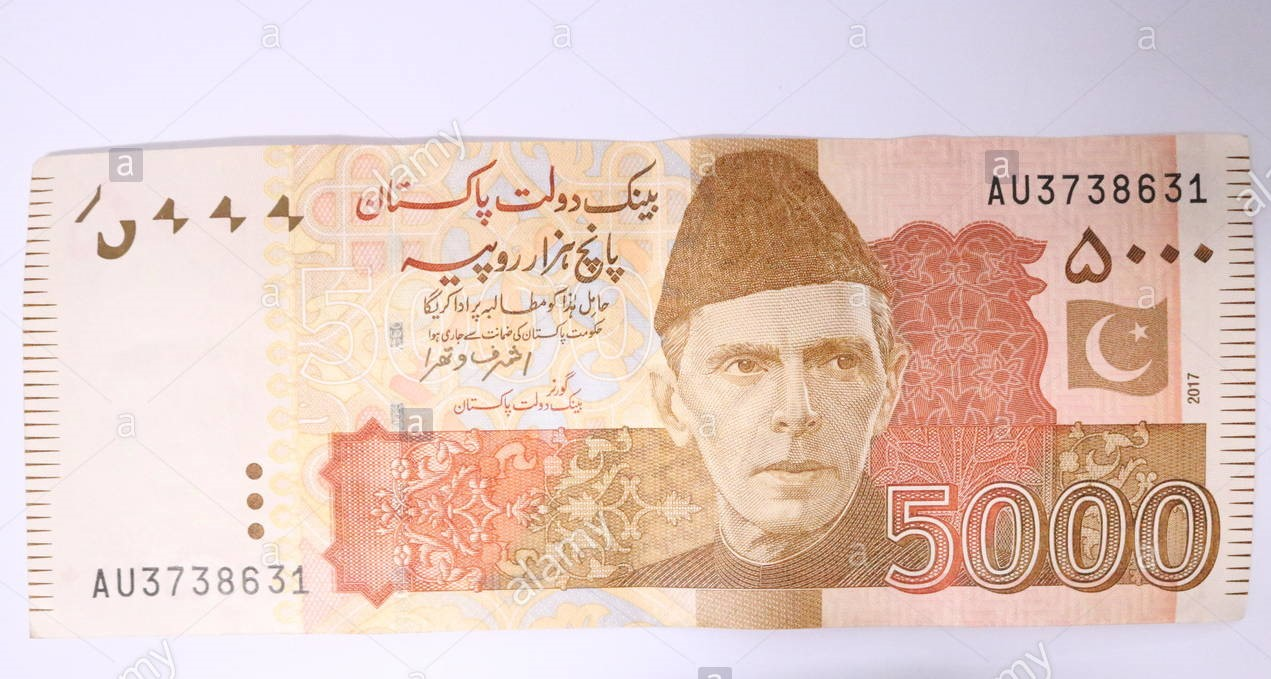5000 rupee: (26, 116, 1258, 645)
